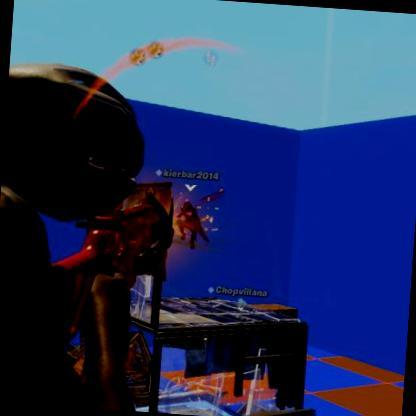person: (168, 194, 204, 244), (229, 290, 251, 314)
